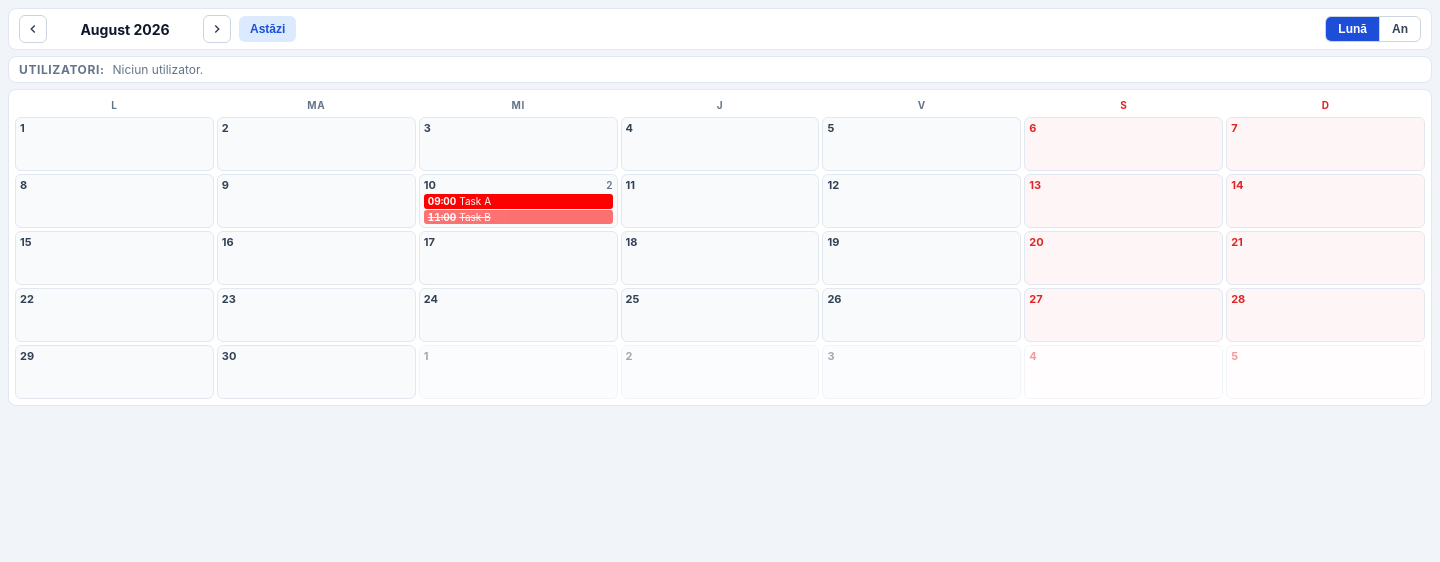
Test: CalendarView.vue › switches to the year view and renders 12 mini-months
Second view-switch button is "An" (year).
Click the tab with class "cal-view-btn" showing "An" at (1400, 29), box [1379,17,1420,41]
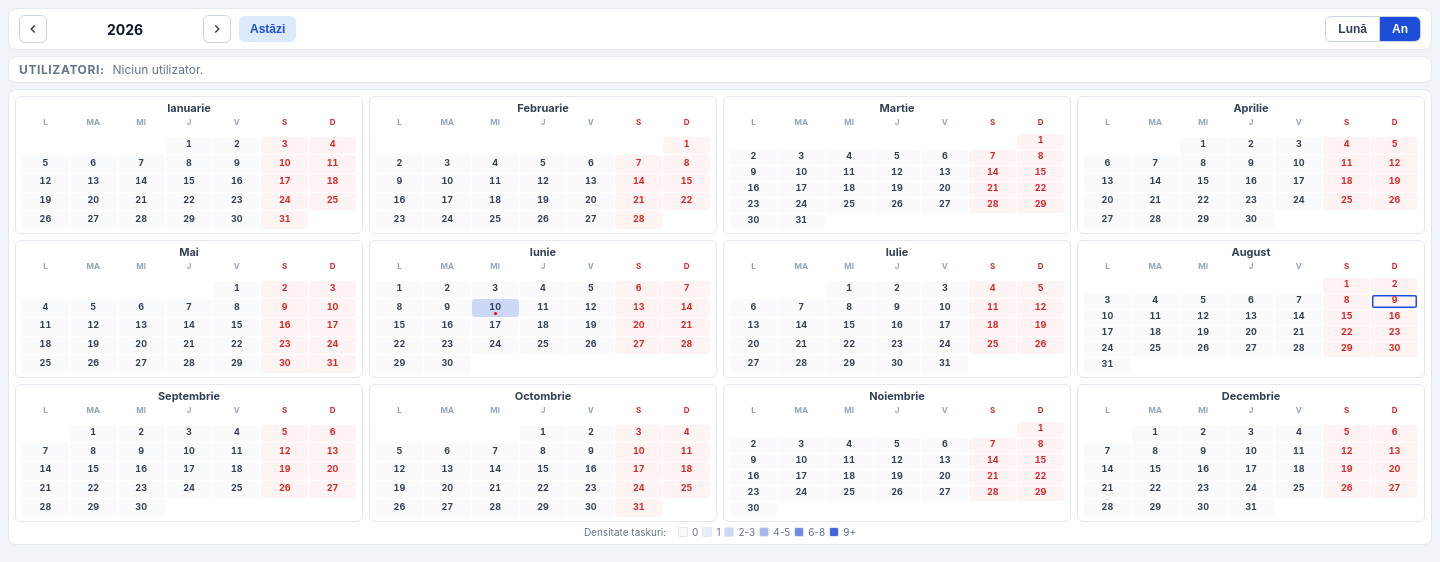
expect the number of elements with class "cal-mini-month" is 12: met
